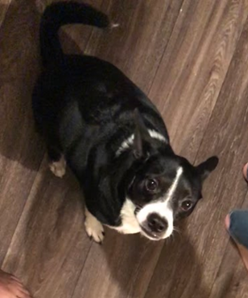Harley: (29, 2, 220, 247)
